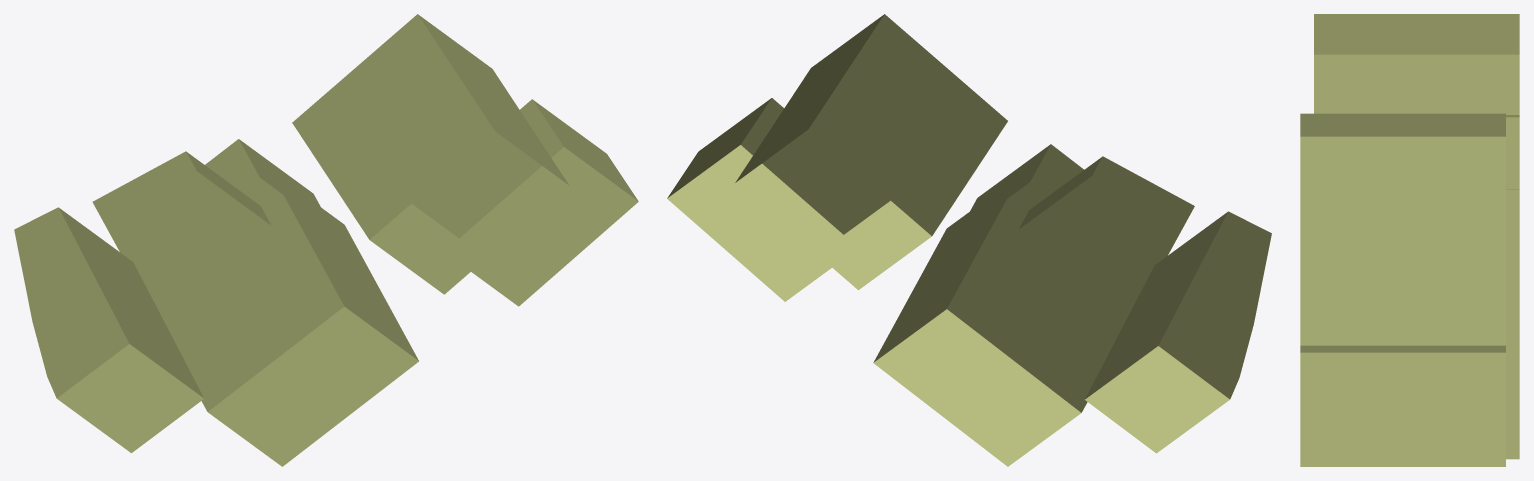
3 views of the same model, side by side, from view 1: azimuth 30°, elevation 25°; view 2: azimuth 150°, elevation 25°; view 3: azimuth 270°, elevation 25° (orthographic). The views are drawn at different scales.
Parts seen in each view (by area): view 1: 0_1_0_2_0_0_3_1_3_3; view 2: 0_1_0_2_0_0_3_1_3_3; view 3: 0_1_0_2_0_0_3_1_3_3.
Part boxes in pixels (<box>): 0_1_0_2_0_0_3_1_3_3: <box>14,14,638,466</box>; 0_1_0_2_0_0_3_1_3_3: <box>667,14,1271,466</box>; 0_1_0_2_0_0_3_1_3_3: <box>1300,14,1519,466</box>.
Bounding box in the file's own units: 25.21 × 15.55 × 6.4.
